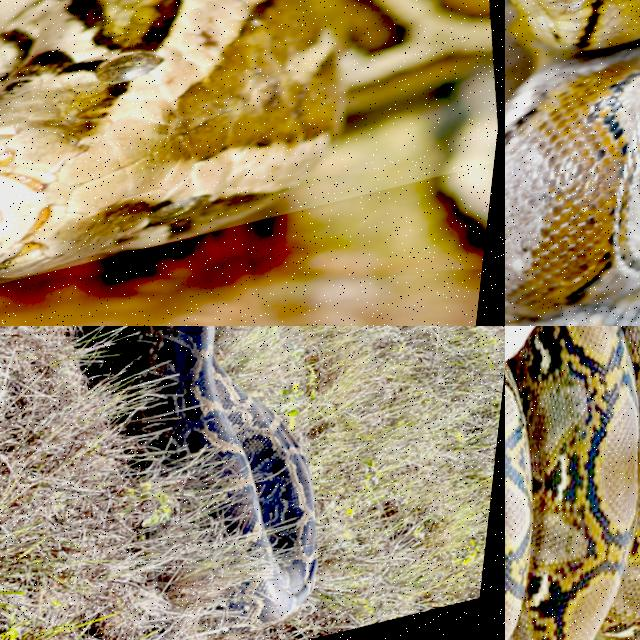Malayopython reticulatus: (505, 0, 639, 325), (505, 326, 639, 639)
Python bivittatus: (0, 0, 492, 276), (139, 326, 315, 630)
snake: (0, 0, 492, 276), (139, 326, 315, 630), (505, 0, 639, 325), (505, 326, 639, 639)
